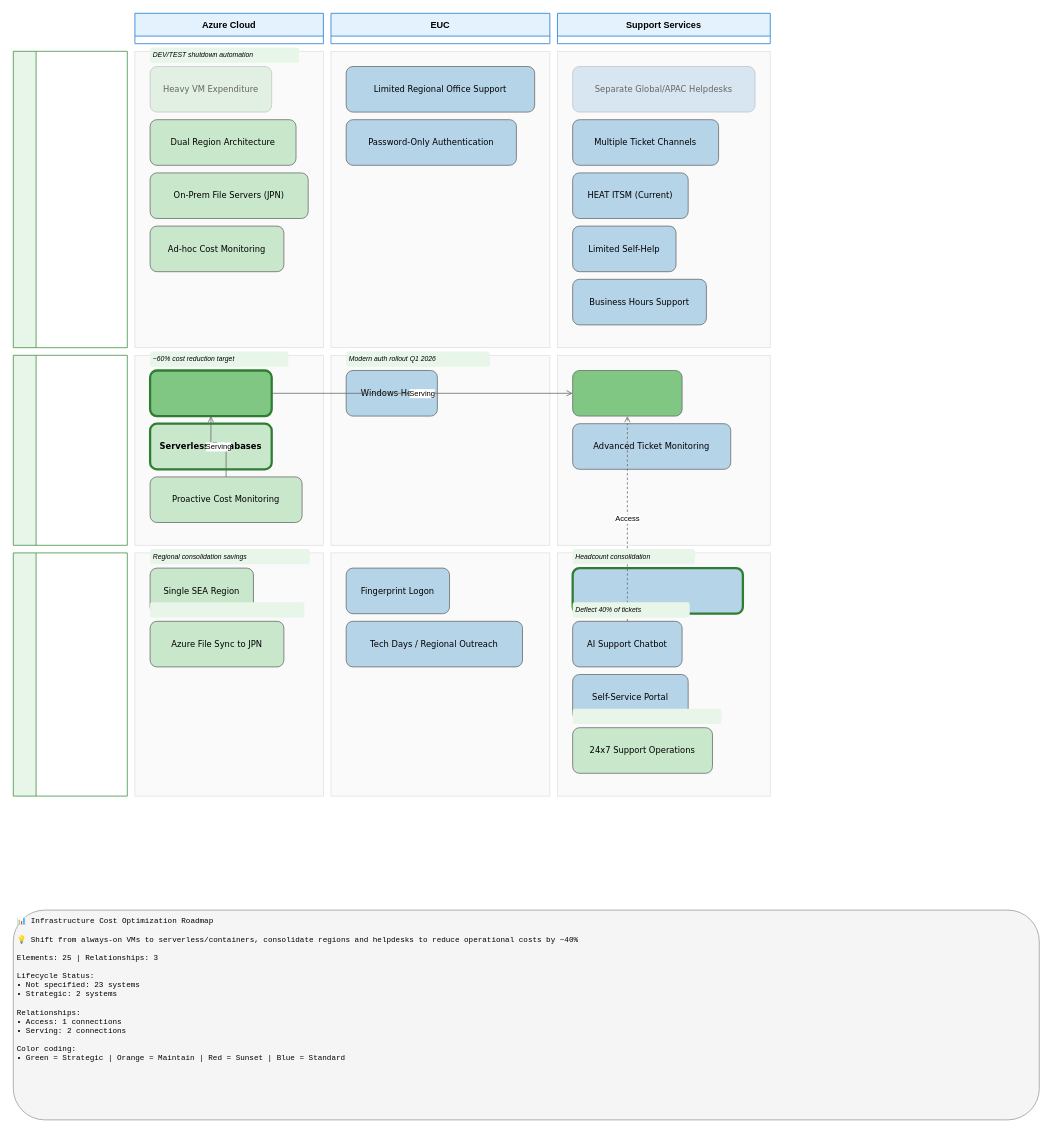
Some shapes in this 1053 by 1133 pixel diagram are drawn without their labels. Here are the shapes that lost their labels. From the top down, the box of each, then its label:
(13, 51, 127, 348): H1
(149, 369, 272, 417): Azure Container Apps
(572, 370, 682, 416): Enhanced HEAT ITSM
(13, 355, 127, 545): H2
(150, 602, 304, 617): Low-latency for Excel editing
(571, 567, 744, 614): Consolidated Global Helpdesk
(13, 552, 127, 796): H3
(572, 708, 721, 724): Follow-the-sun support model
